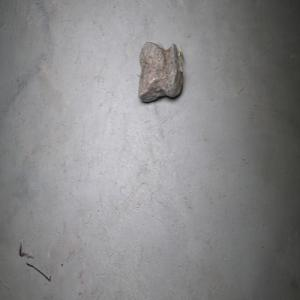Rock: (136, 41, 184, 102)
